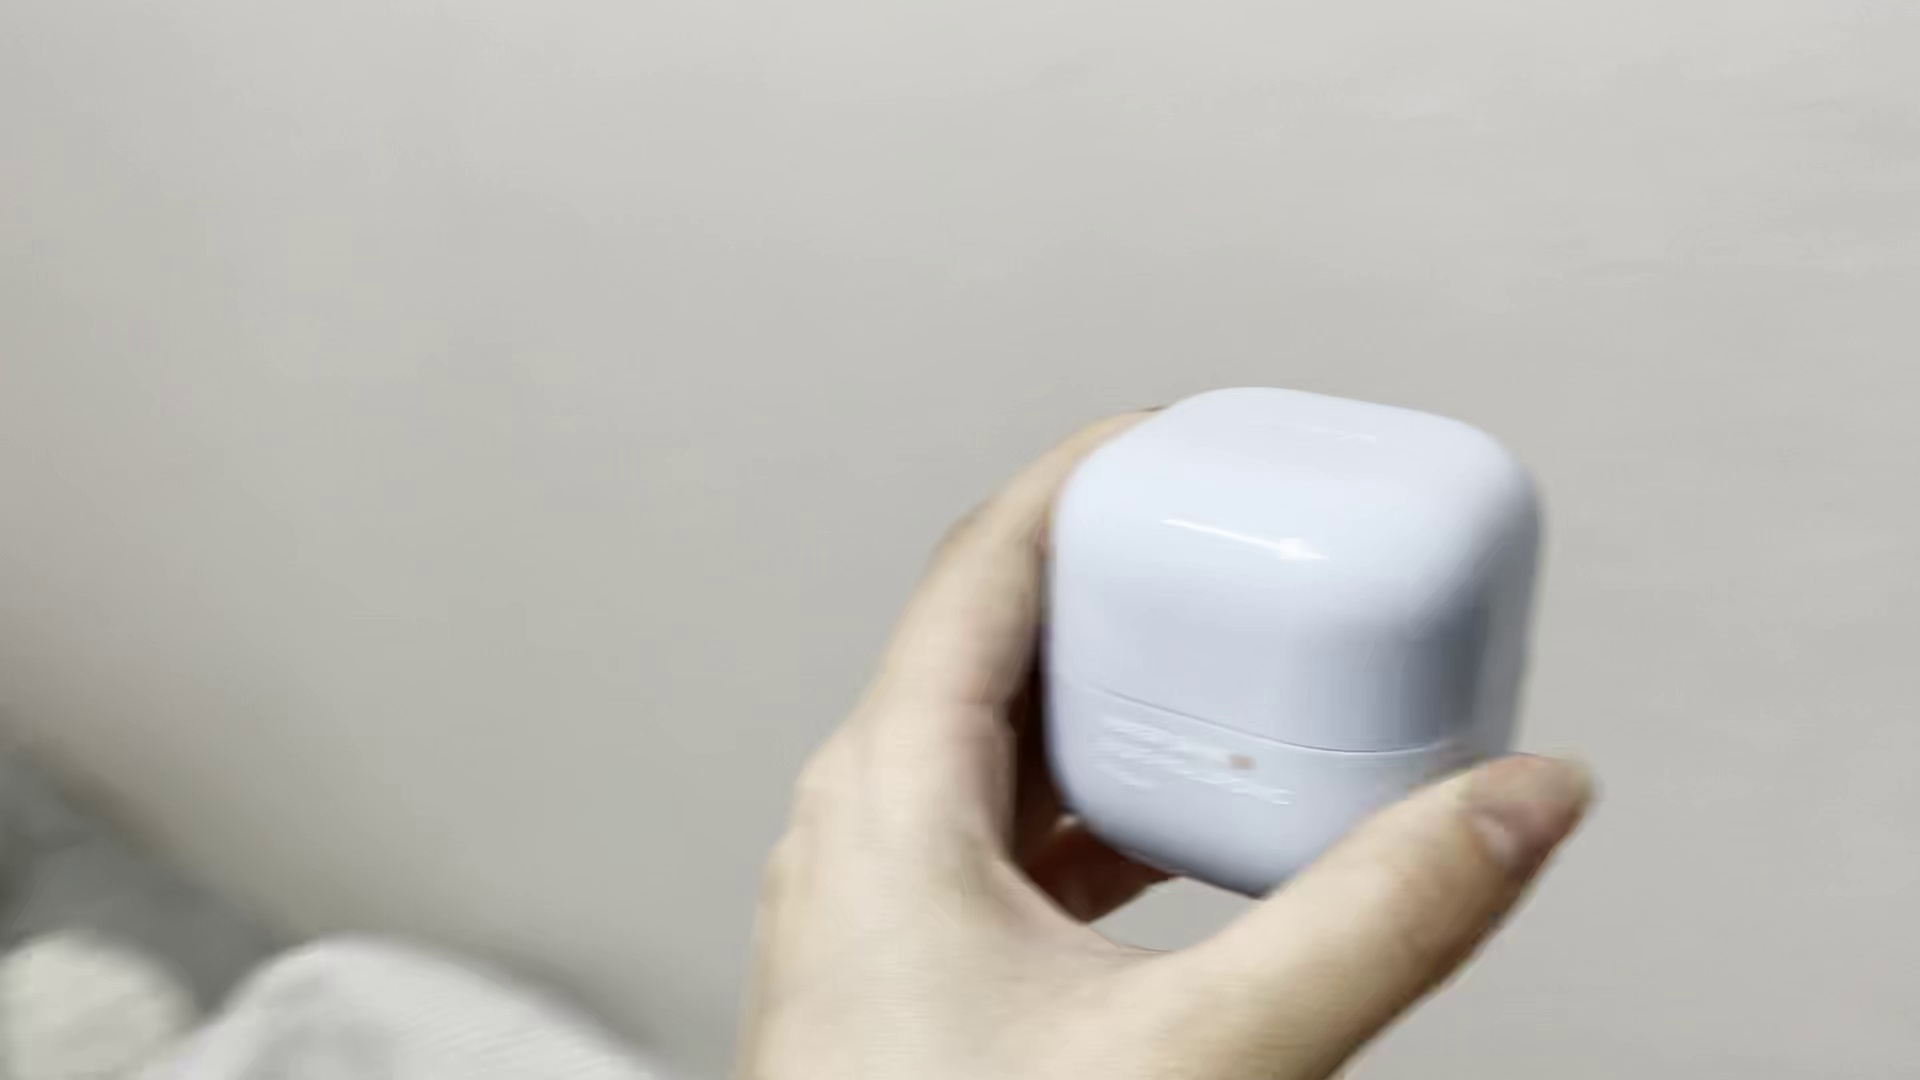cream: (1036, 384, 1540, 909)
